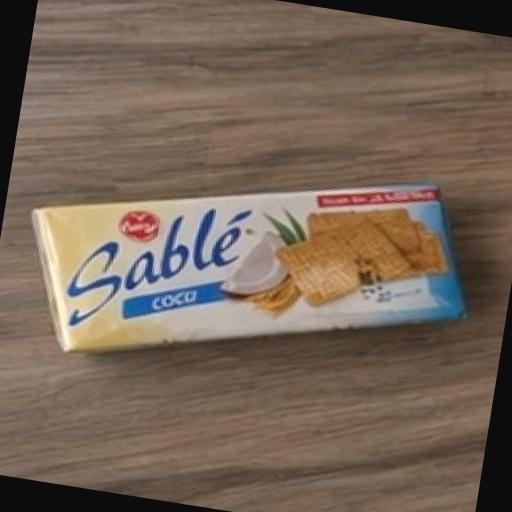sable: (0, 112, 509, 455)
